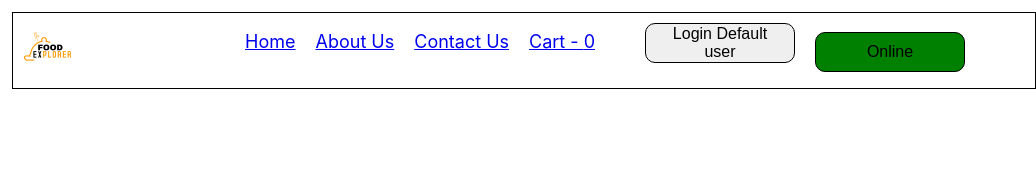
Test: Logout on click
This screenshot has width=1036, height=172.
Click the button "Login Default user": coordinates (720, 43) [645,23,795,63]
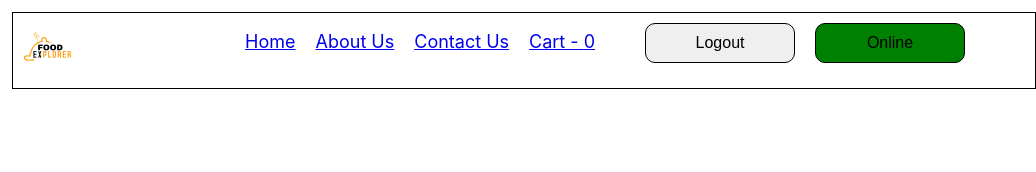
Check: the button "Logout" is shown, box [645,23,795,63]
